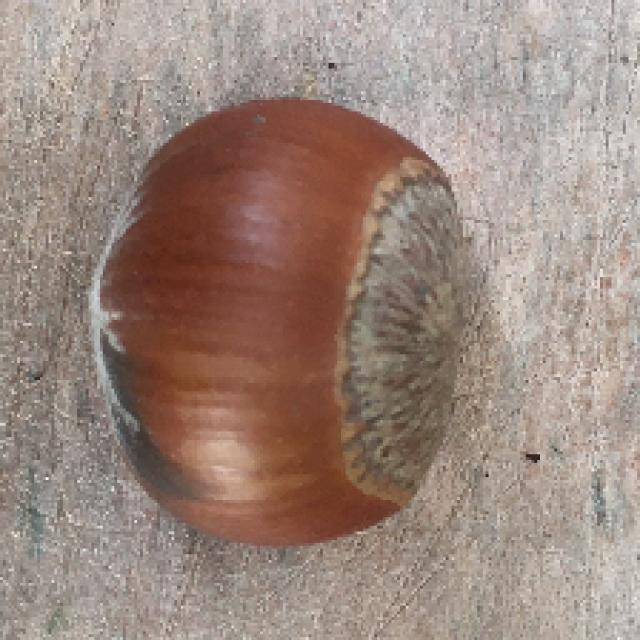damagedHazelnut: (77, 78, 499, 547)
